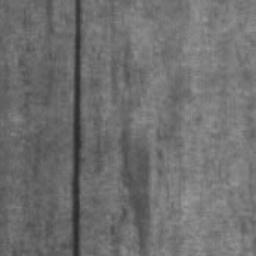Scratches: (70, 0, 83, 256)
